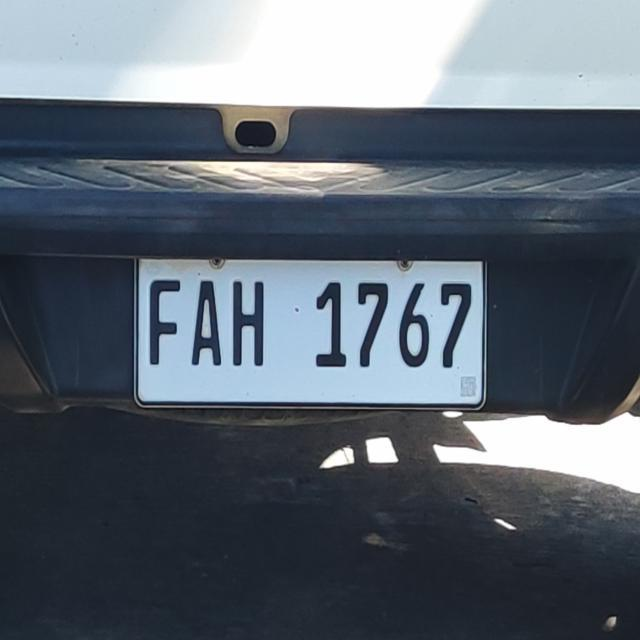LicensePlate: (111, 247, 505, 421)
